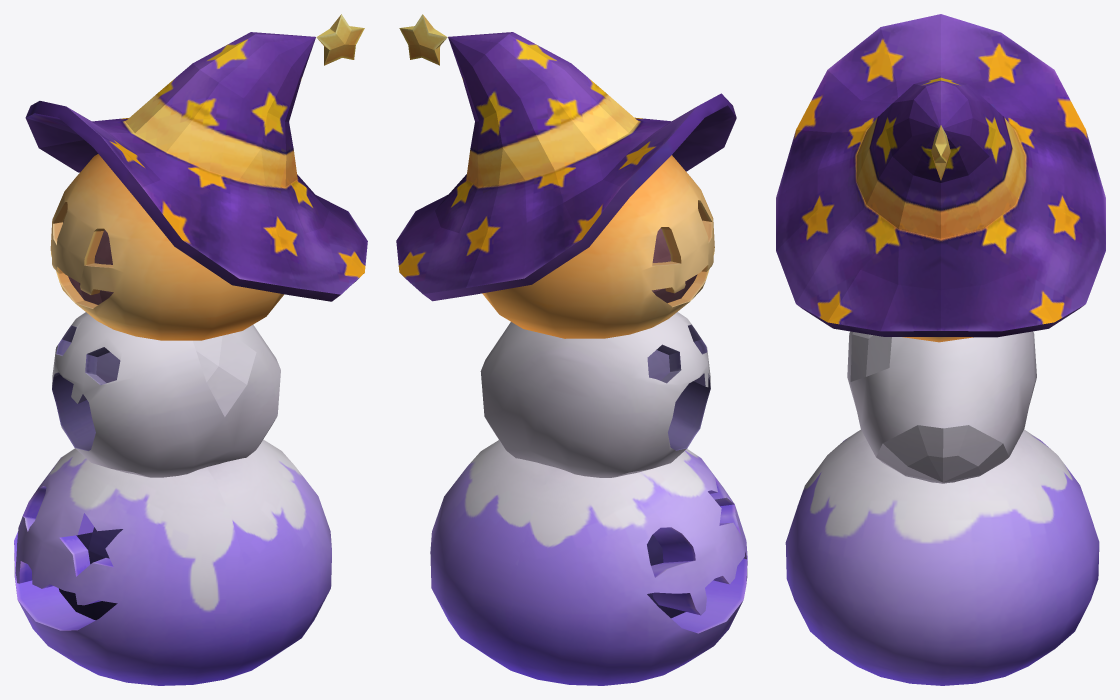
Rendered from my_halloween_01_p_acc_01.glb.
The picture shows the model from 3 angles, left to right: view 1: azimuth 30°, elevation 25°; view 2: azimuth 150°, elevation 25°; view 3: azimuth 270°, elevation 25°; orthographic projection.
Visible parts, largest first — view 1: my_halloween_01_p_acc_01; view 2: my_halloween_01_p_acc_01; view 3: my_halloween_01_p_acc_01.
Part boxes in pixels (bbox=[...]): my_halloween_01_p_acc_01: bbox=[14, 14, 367, 685]; my_halloween_01_p_acc_01: bbox=[396, 14, 747, 685]; my_halloween_01_p_acc_01: bbox=[776, 14, 1105, 685].
Bounding box in the file's own units: 0.00588 × 0.0102 × 0.00498.
Materials: 1 (1 with a texture image).
